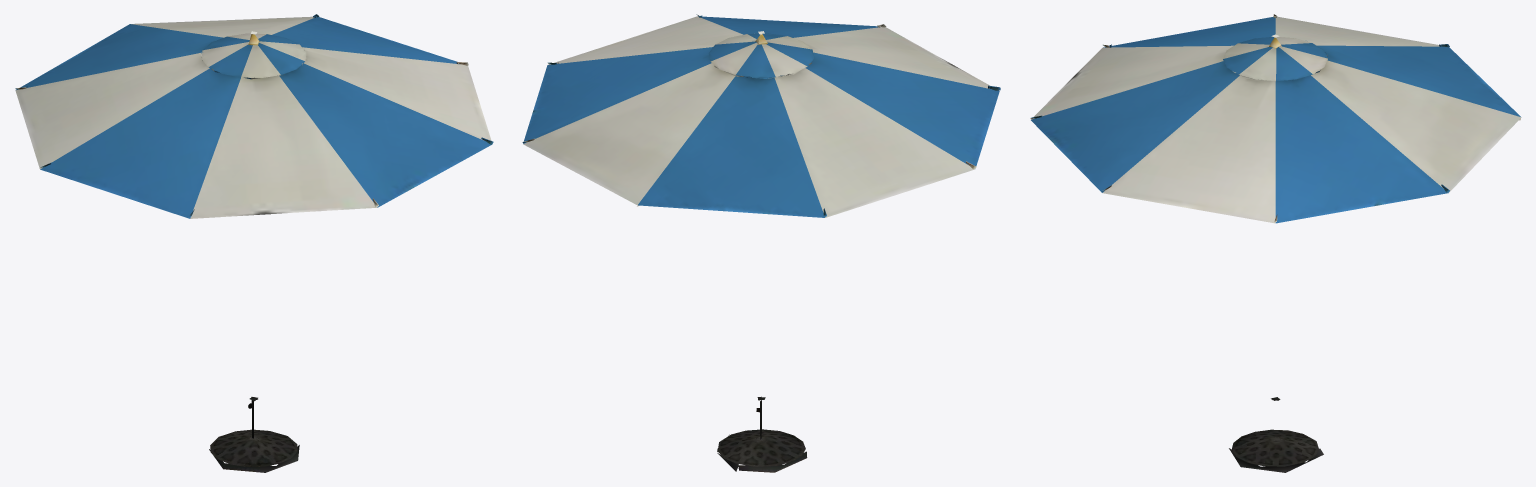
File: umbrella_airtime_lod1.glb
3 views of the same model, side by side, from view 1: azimuth 30°, elevation 25°; view 2: azimuth 150°, elevation 25°; view 3: azimuth 270°, elevation 25° (orthographic).
Parts seen in each view (by area): view 1: umbrella_airtime_lod1; view 2: umbrella_airtime_lod1; view 3: umbrella_airtime_lod1.
Boxes of the visible parts, box(x1,y1,x2,y2) form: umbrella_airtime_lod1: box(15, 14, 493, 472); umbrella_airtime_lod1: box(522, 14, 1000, 472); umbrella_airtime_lod1: box(1030, 14, 1521, 472).
Size of the model in its own units: 2.5 by 2.35 by 2.51.
Materials: 3 (3 with a texture image).
